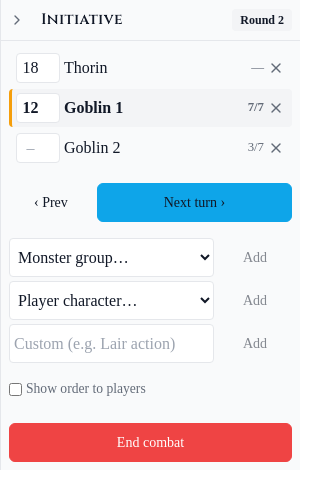
Test case: InitiativeTracker › removes an entry
The image size is (320, 487).
Click the 3rd button with test id "remove-entry" at [278, 148], box top-left (268, 140), bottom-right (288, 156)
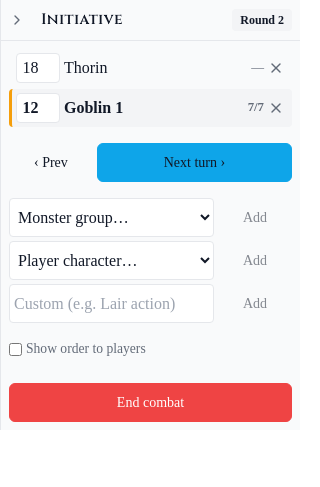
Expected: the number of list items with test id "combat-entry" is 2, top-left (9, 49), bottom-right (292, 87); top-left (9, 89), bottom-right (292, 127)
